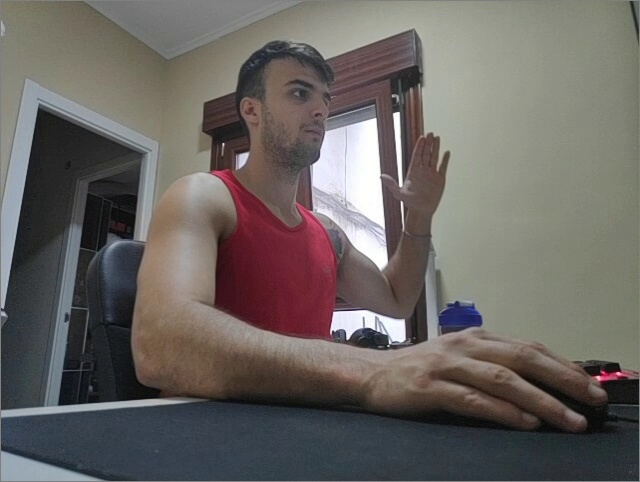Palm: (377, 130, 452, 213)
